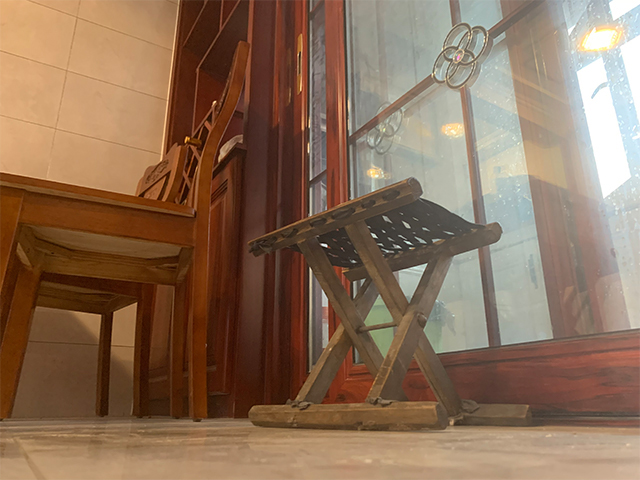stool: (1, 39, 248, 421), (245, 176, 535, 431)
